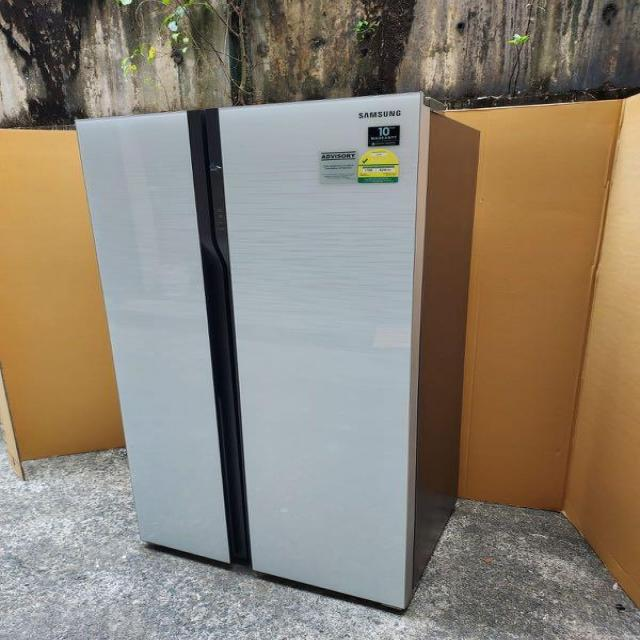refrigerator: (75, 92, 427, 602)
